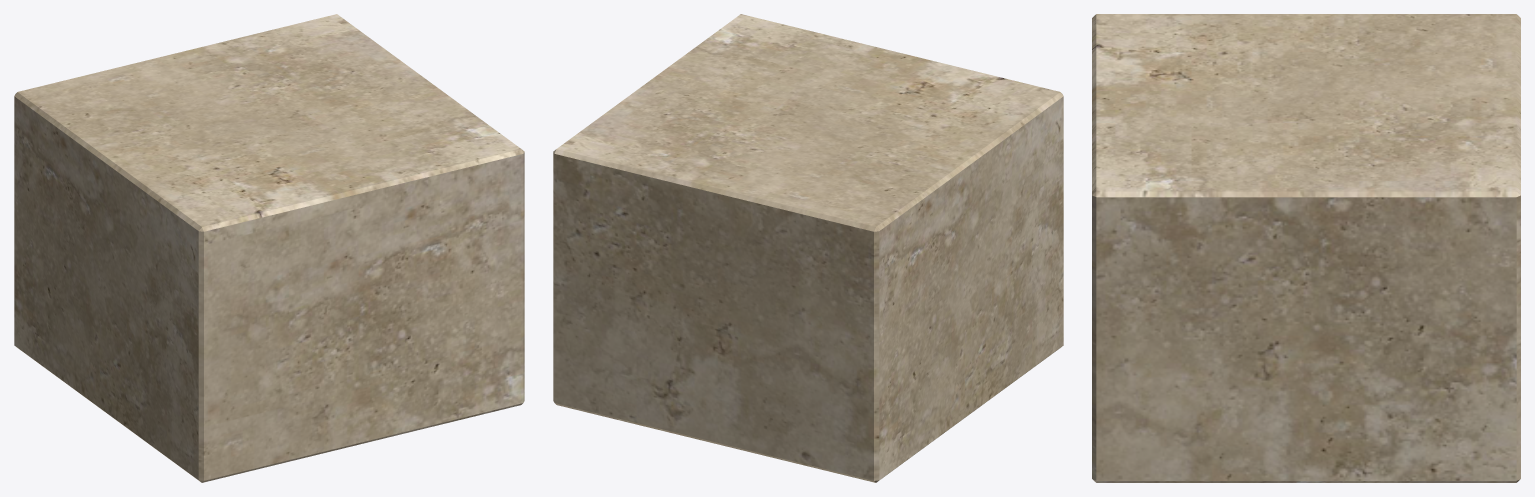
File: short_brick.FBX
3 views of the same model, side by side, from view 1: azimuth 30°, elevation 25°; view 2: azimuth 150°, elevation 25°; view 3: azimuth 270°, elevation 25° (orthographic). The views are drawn at different scales.
Visible parts, largest first — view 1: Object006; view 2: Object006; view 3: Object006.
Part boxes in pixels (box(x1,y1,x2,y2)): Object006: box(14, 14, 524, 482); Object006: box(553, 14, 1063, 482); Object006: box(1092, 14, 1520, 482).
Size of the model in its own units: 100 by 75 by 100.
